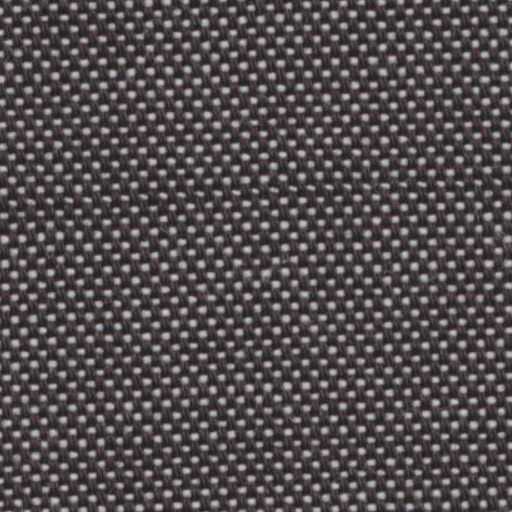TuoSha: (16, 166, 500, 222)
